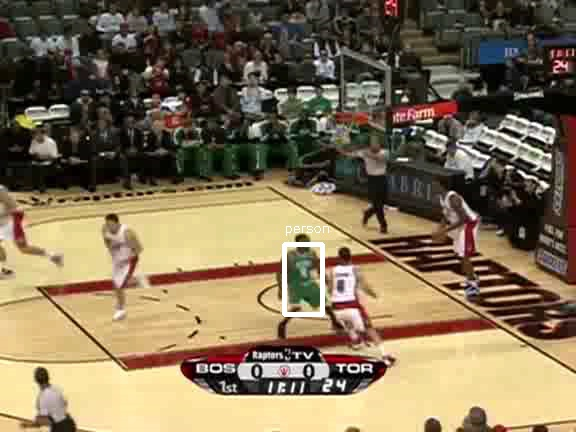person: (286, 240, 320, 321), (285, 240, 319, 321), (287, 240, 321, 321), (286, 239, 320, 320), (286, 241, 320, 322)
target_negative: (101, 80, 374, 212), (233, 174, 431, 347), (185, 78, 301, 236), (241, 357, 500, 407), (447, 152, 531, 287), (263, 82, 391, 127)
